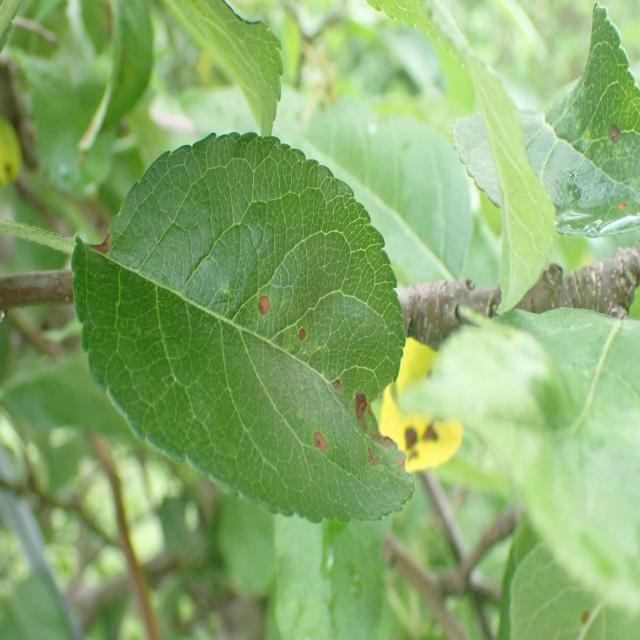Black Rot: (352, 376, 416, 485), (87, 209, 115, 278), (288, 301, 318, 363), (250, 267, 272, 333), (325, 366, 351, 406), (308, 426, 332, 458)
